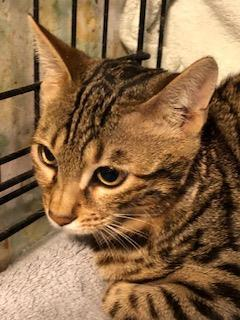bengal: (10, 4, 227, 256)
